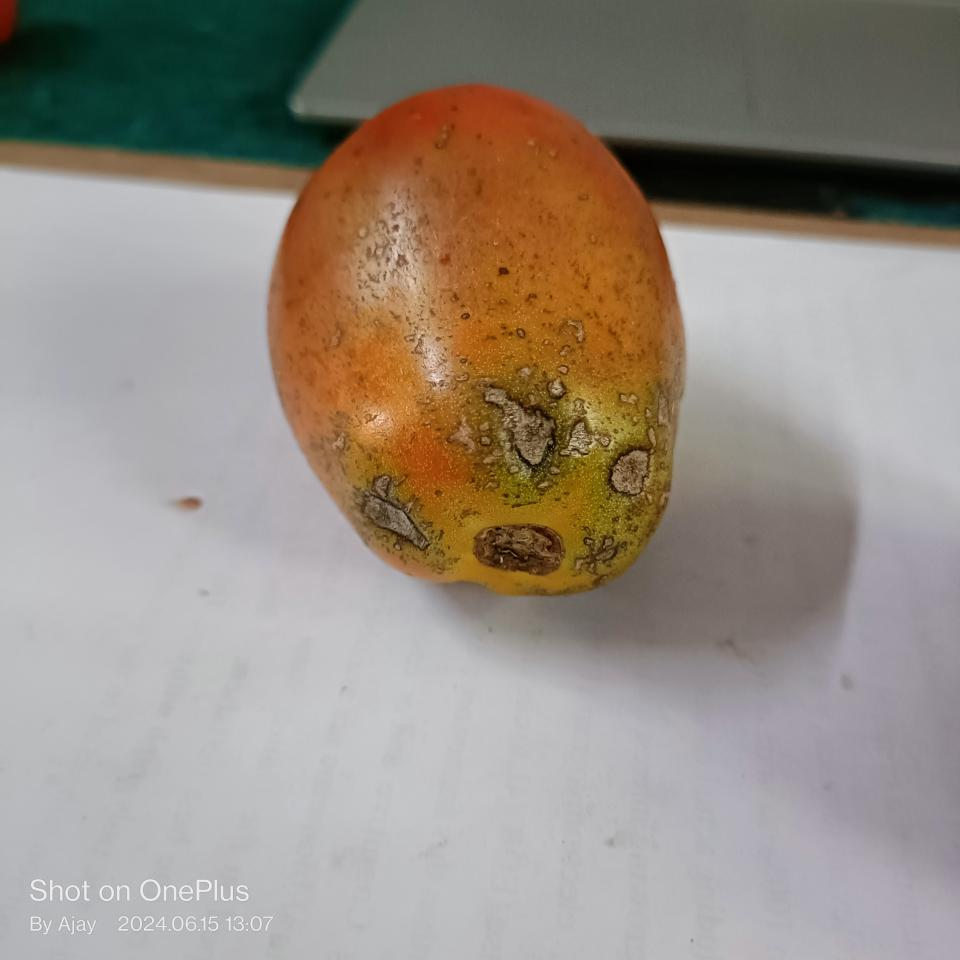Bacterial_Spot: (448, 365, 584, 496), (356, 484, 421, 561), (480, 524, 562, 572), (608, 446, 659, 498)
